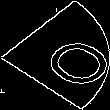O_NW: (8, 22, 102, 88)
